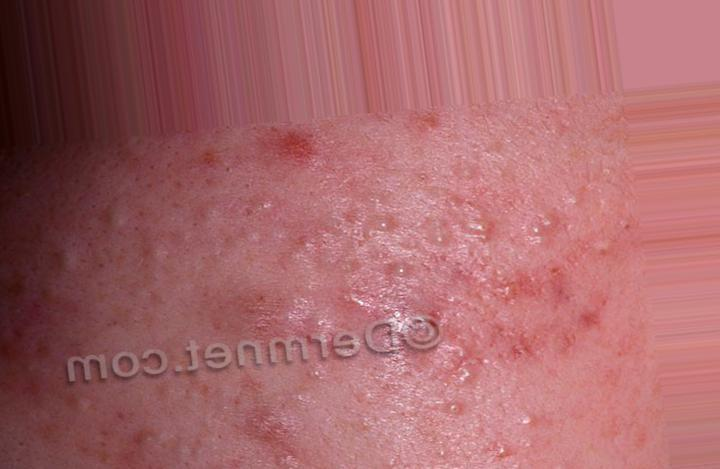Acne: (346, 254, 445, 333), (231, 376, 297, 469), (266, 284, 340, 344), (247, 122, 319, 176), (454, 212, 576, 242), (254, 202, 314, 258), (447, 342, 505, 399), (41, 227, 81, 286)
